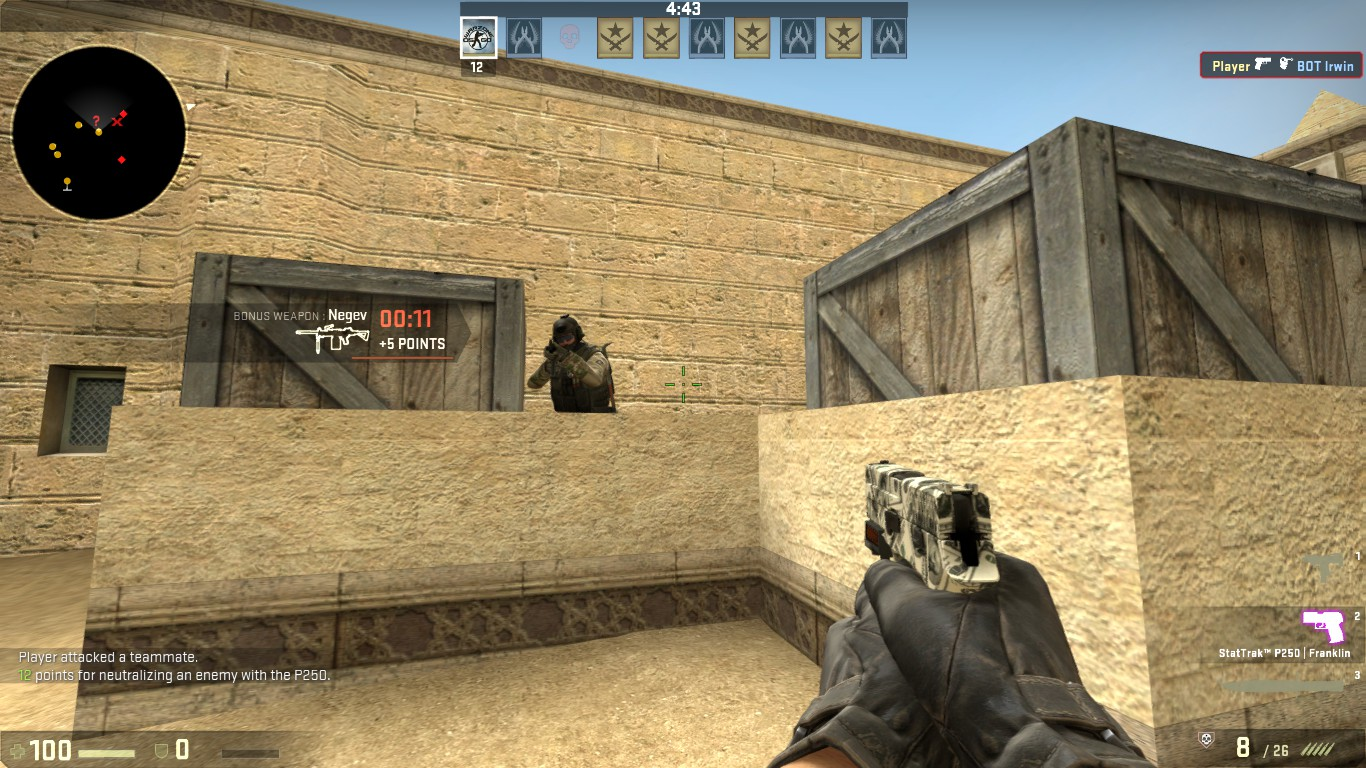c: (530, 310, 622, 415)
ch: (545, 313, 591, 356)
